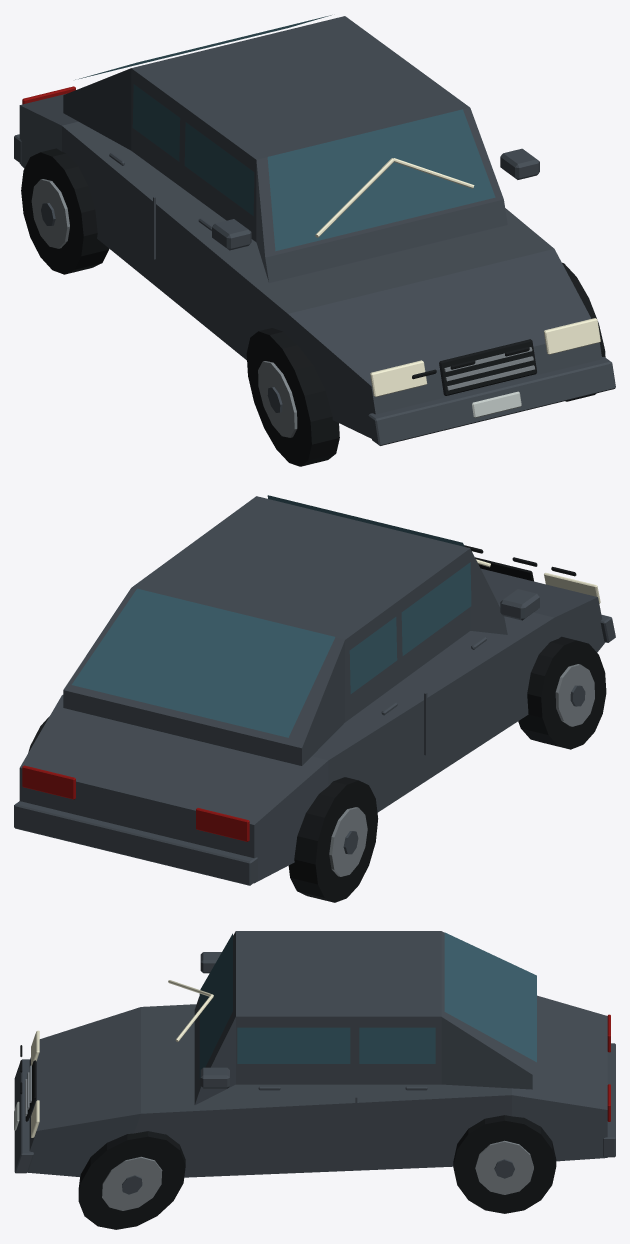
File: WreckedSedan.fbx
3 views of the same model, one above another, from view 1: azimuth 30°, elevation 25°; view 2: azimuth 150°, elevation 25°; view 3: azimuth 270°, elevation 25° (orthographic). The views are drawn at different scales.
Visible parts, largest first — view 1: WreckedSedan; view 2: WreckedSedan; view 3: WreckedSedan.
Boxes of the visible parts, x1,y1,x2,y2 form: WreckedSedan: (14,15,615,466); WreckedSedan: (14,495,615,902); WreckedSedan: (14,931,615,1229).
Size of the model in its own units: 202 by 149 by 410.
Materials: 1 (1 with a texture image).
